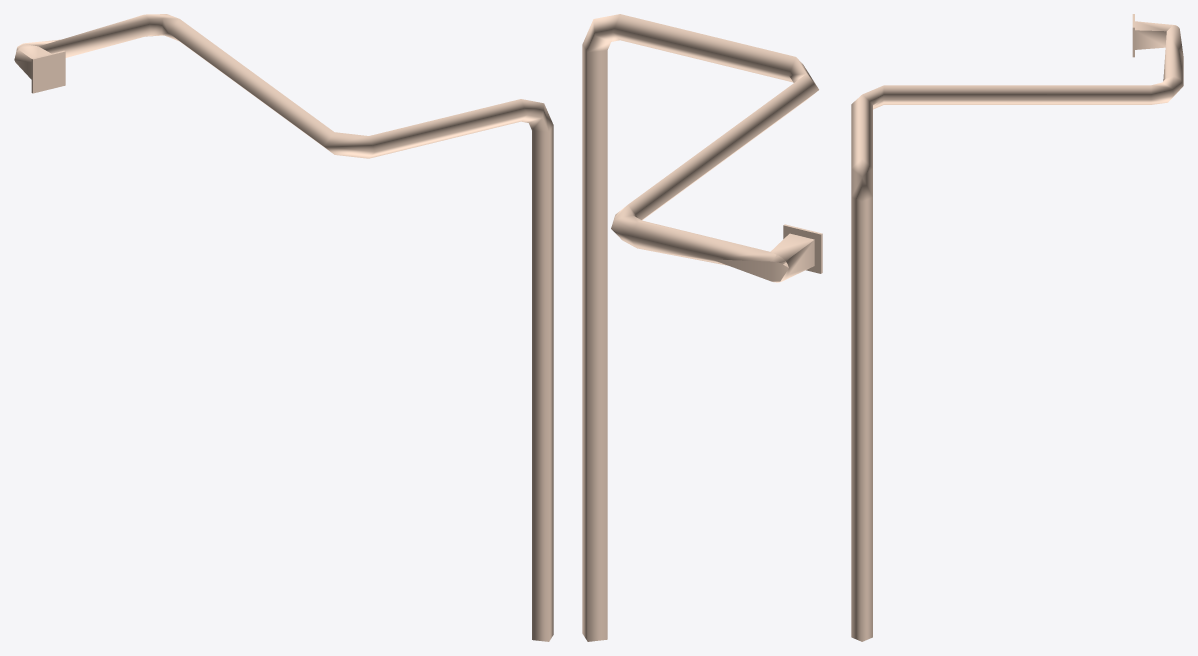
File: Tige cremaillere.obj
The picture shows the model from 3 angles, left to right: view 1: azimuth 30°, elevation 25°; view 2: azimuth 150°, elevation 25°; view 3: azimuth 270°, elevation 25°; orthographic projection. The views are drawn at different scales.
Visible parts, largest first — view 1: Face_5, Face_9, Face_7, Face_1, Face_21, Face_8; view 2: Face_5, Face_9, Face_7, Face_1, Face_6, Face_23, Face_10, Face_4, Face_3, Face_22; view 3: Face_5, Face_9, Face_7, Face_1, Face_6, Face_10, Face_12.
Boxes of the visible parts, x1=… form: Face_5: x1=532, y1=125, x2=553, y2=641; Face_9: x1=169, y1=19, x2=334, y2=152; Face_7: x1=369, y1=99, x2=527, y2=158; Face_1: x1=24, y1=14, x2=151, y2=57; Face_21: x1=33, y1=51, x2=65, y2=93; Face_8: x1=324, y1=132, x2=374, y2=158; Face_5: x1=582, y1=44, x2=607, y2=641; Face_9: x1=628, y1=74, x2=818, y2=220; Face_7: x1=613, y1=14, x2=795, y2=82; Face_1: x1=631, y1=220, x2=776, y2=265; Face_6: x1=582, y1=14, x2=619, y2=52; Face_23: x1=712, y1=259, x2=788, y2=281; Face_10: x1=611, y1=205, x2=641, y2=247; Face_4: x1=786, y1=240, x2=814, y2=279; Face_3: x1=770, y1=233, x2=814, y2=260; Face_22: x1=783, y1=225, x2=820, y2=273; Face_5: x1=851, y1=197, x2=872, y2=641; Face_9: x1=884, y1=85, x2=1150, y2=104; Face_7: x1=851, y1=94, x2=872, y2=167; Face_1: x1=1163, y1=26, x2=1183, y2=85; Face_6: x1=851, y1=159, x2=872, y2=201; Face_10: x1=1151, y1=76, x2=1183, y2=104; Face_12: x1=1135, y1=30, x2=1166, y2=49.
Size of the model in its own units: 0.0335 by 0.0483 by 0.0307.
